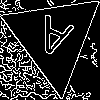A: (29, 13, 75, 69)
